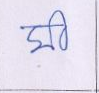i_matra: (52, 9, 72, 51)
